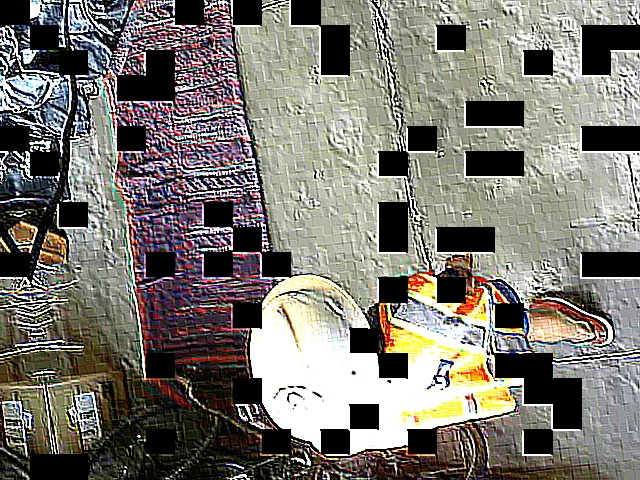eight: (268, 383, 327, 430)
